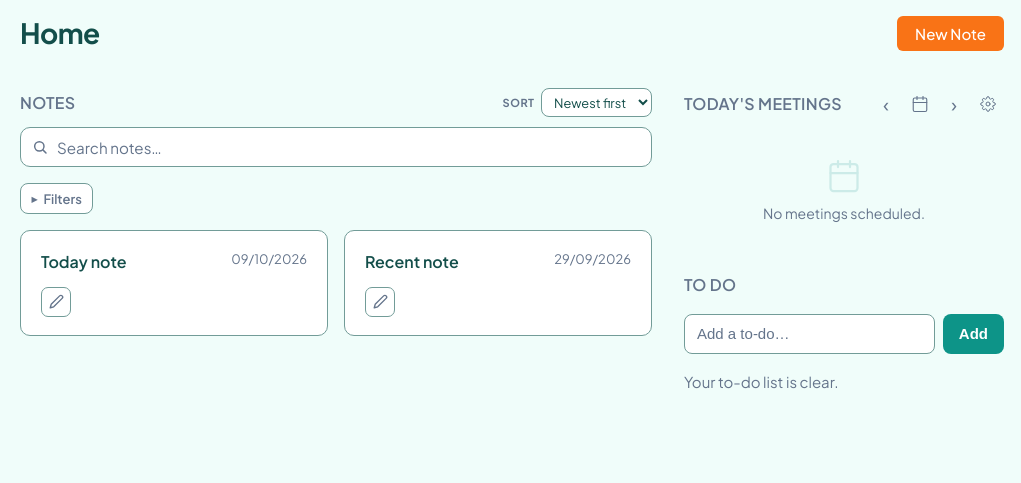
Test: ListView — home default window + date-range filter (40-A) › narrows to today with the Today preset
This screenshot has width=1021, height=483.
expect the heading "Recent note" is shown: met, box [365,251,459,272]
Click the button "▸ Filters" at (57, 199), box [20,183,93,214]
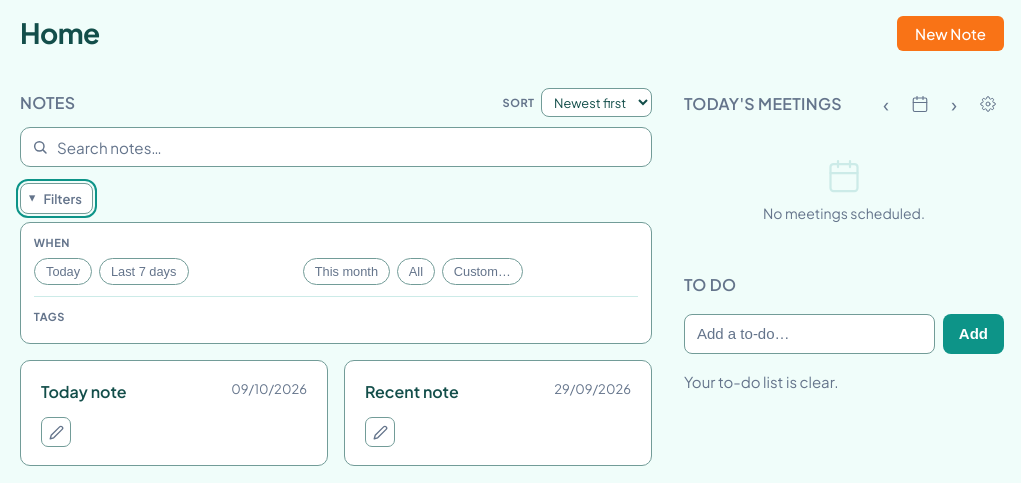
Click the button with test id "range-preset-today" at (63, 271), box [34,258,92,285]
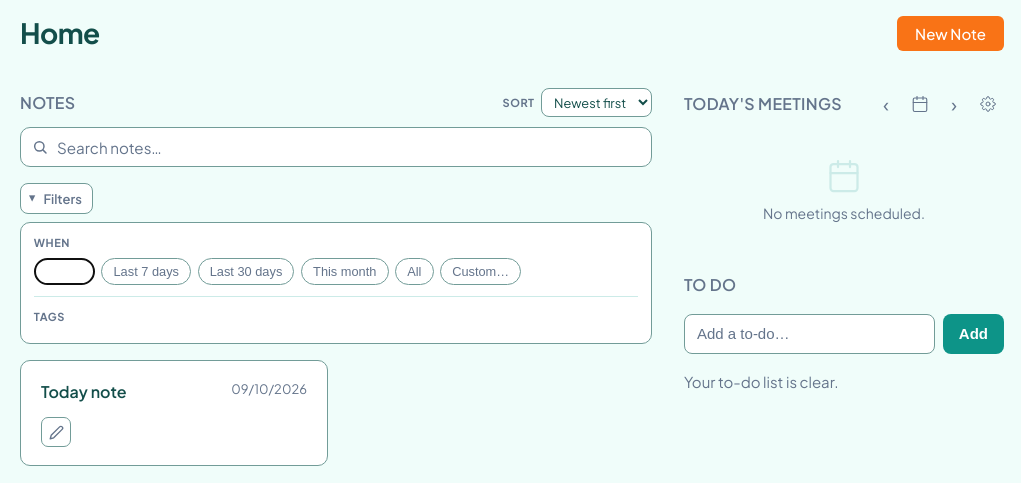
expect the heading "Today note" is shown: met, box [41,381,126,402]
expect the heading "Recent note" is gone: met
